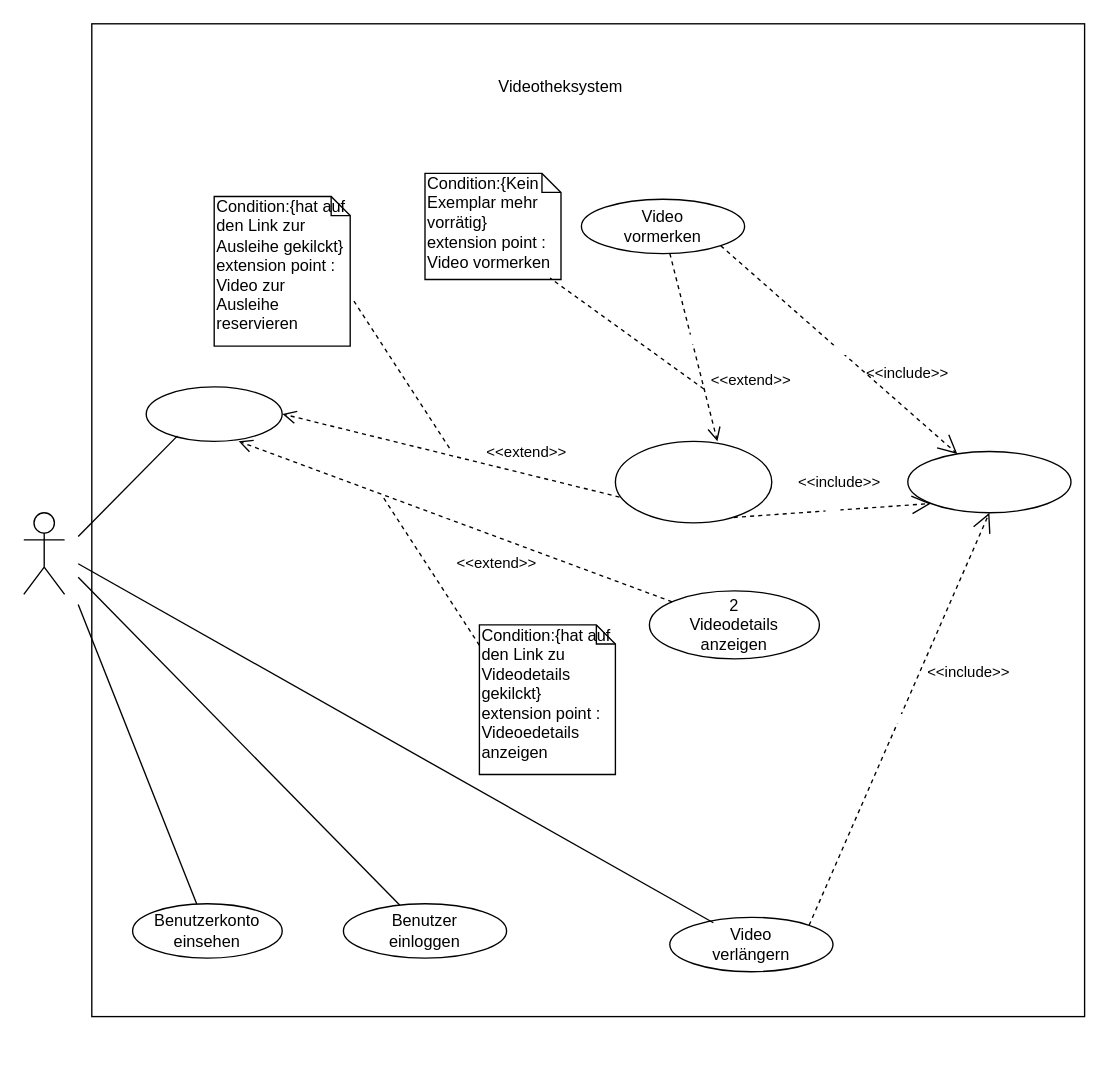
Image size: 1108x1091. Some labels were removed from this diagram. The shapes that lost their labels are listed below. From the top down, each one's centre as x and y in pixels, then its label:
pixel 213 413: 1 Video suchen
pixel 693 481: 3 Video zur Auslehe reservieren
pixel 988 481: Benutzerkonto aktualisieren
pixel 43 552: Actor
